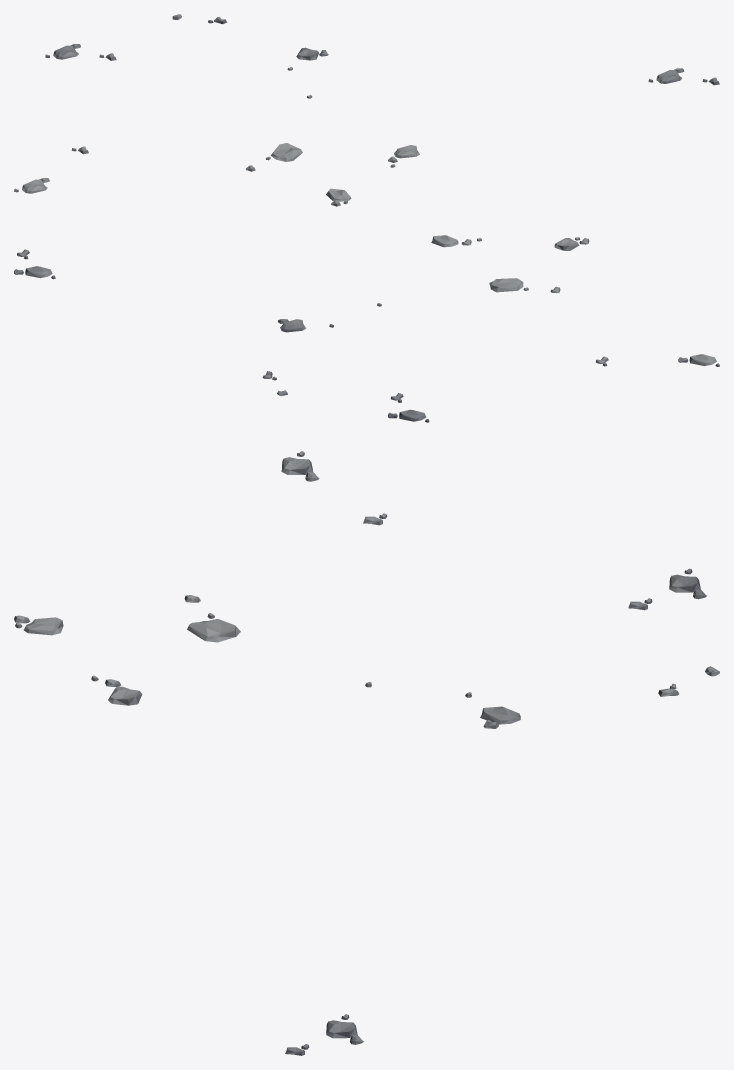
File: Ground_04.FBX
3 renders of one model, top to bottom at view 1: azimuth 30°, elevation 25°; view 2: azimuth 150°, elevation 25°; view 3: azimuth 270°, elevation 25°, orthographic. The views are drawn at different scales.
Visible parts, largest first — view 1: Ground_04; view 2: Ground_04; view 3: Ground_04.
Part boxes in pixels (left/top/right/bottom): Ground_04: left=14, top=14, right=719, bottom=206; Ground_04: left=14, top=235, right=719, bottom=422; Ground_04: left=14, top=451, right=719, bottom=1055.
Size of the model in its own units: 32.55 by 2.83 by 18.93.
